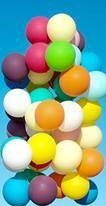Balloon: (53, 140, 82, 175), (2, 139, 32, 172), (47, 13, 78, 43), (59, 65, 89, 96), (2, 175, 30, 206), (29, 133, 56, 165), (36, 100, 64, 130), (29, 175, 57, 205), (46, 42, 75, 70), (61, 171, 89, 199), (4, 88, 29, 117), (79, 148, 104, 176), (3, 54, 28, 80), (27, 18, 47, 42)
